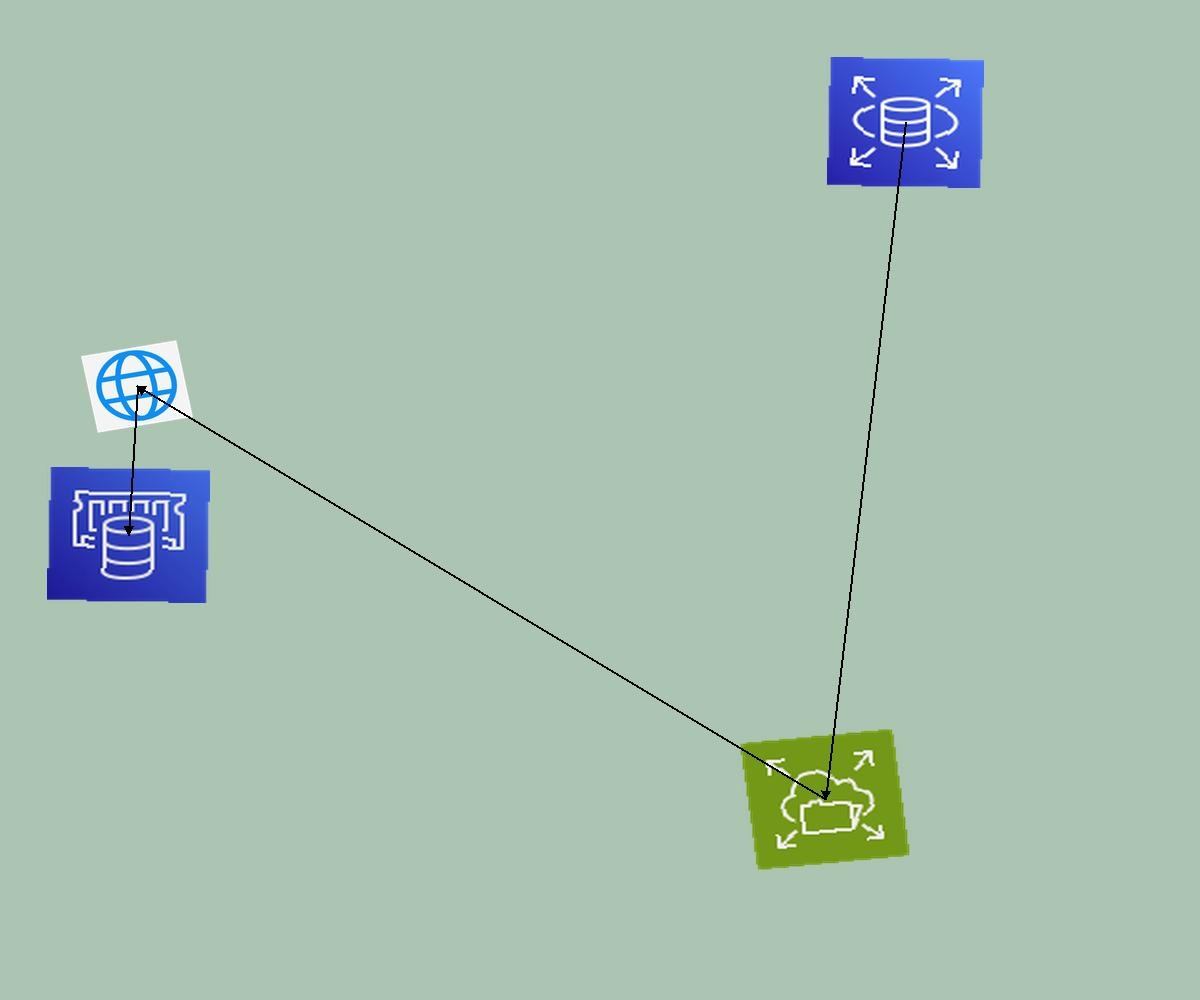AWS-EFS: (739, 728, 911, 871)
AWS-ElastiCache: (47, 467, 210, 603)
AWS-RDS: (827, 57, 984, 188)
Azure_http: (81, 340, 193, 433)
